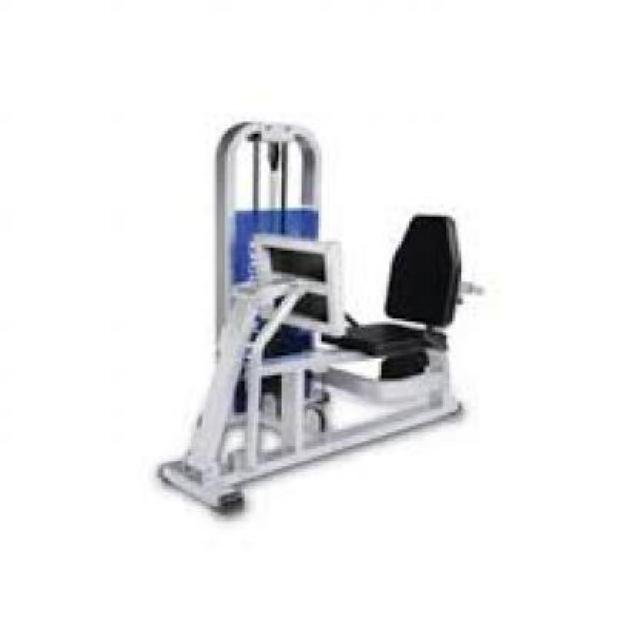leg press: (126, 104, 506, 550)
